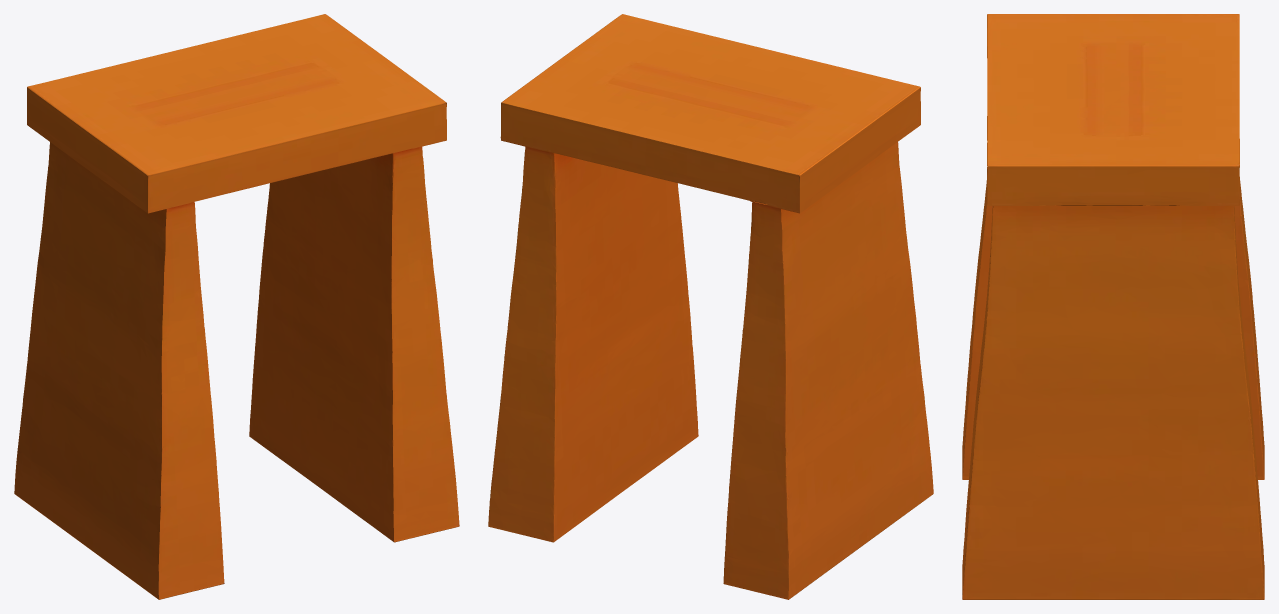
Rendered from 92a1c5e9-5858-487b-bda0-06b281a3ec69.glb.
3 renders of one model, left to right at view 1: azimuth 30°, elevation 25°; view 2: azimuth 150°, elevation 25°; view 3: azimuth 270°, elevation 25°, orthographic. The views are drawn at different scales.
Visible parts, largest first — view 1: world; view 2: world; view 3: world.
Part boxes in pixels (left/top/right/bottom): world: left=14, top=14, right=459, bottom=599; world: left=488, top=14, right=933, bottom=599; world: left=962, top=14, right=1264, bottom=599.
Bounding box in the file's own units: 0.7576 × 1 × 0.6325.
Materials: 1 (1 with a texture image).
